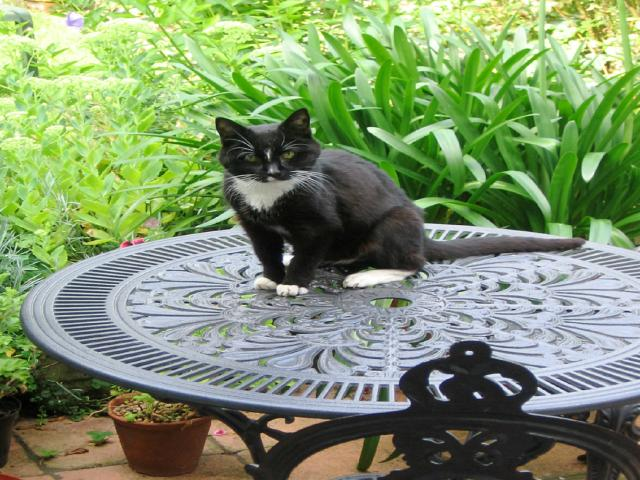Cat: (213, 106, 586, 298)
